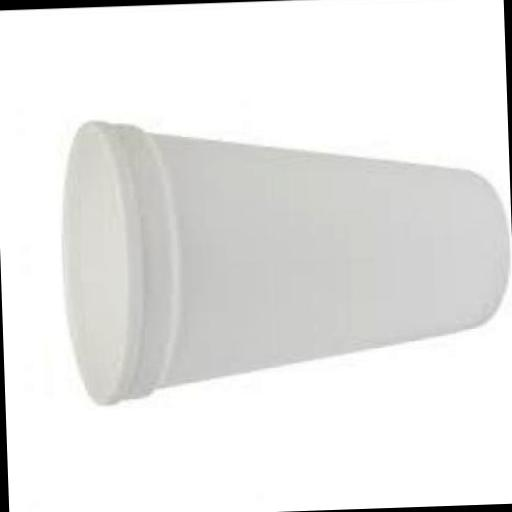paper: (59, 102, 512, 404)
